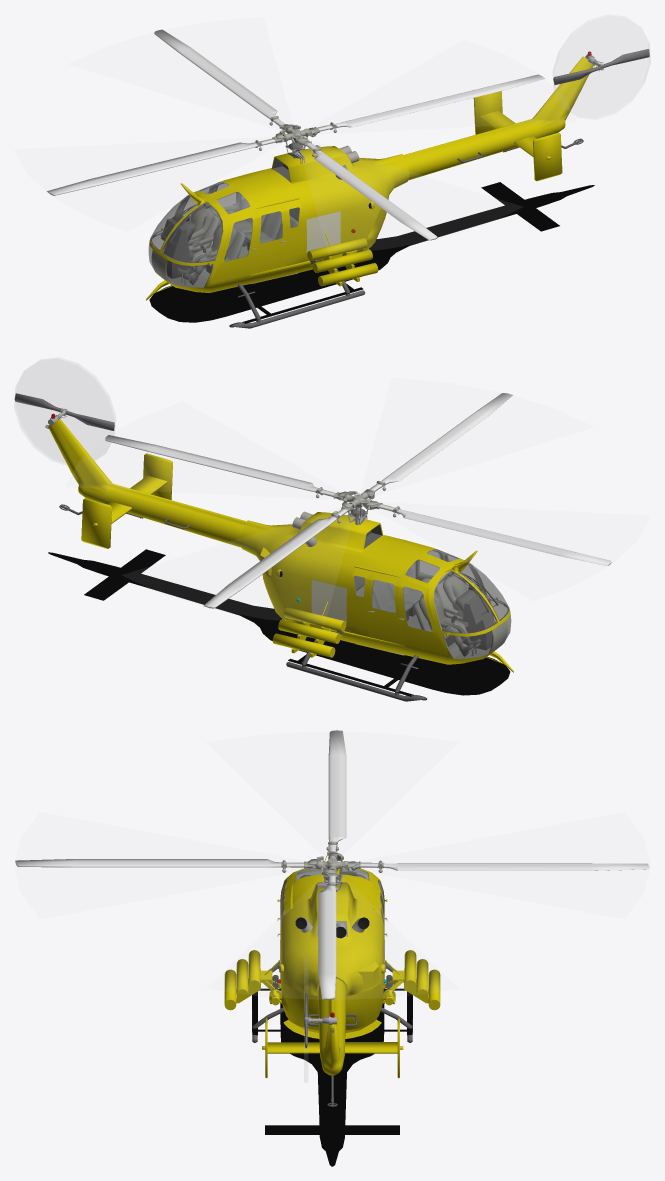
3 views of the same model, one above another, from view 1: azimuth 30°, elevation 25°; view 2: azimuth 150°, elevation 25°; view 3: azimuth 270°, elevation 25° (orthographic). The views are drawn at different scales.
Visible parts, largest first — view 1: fuselage, shadow_fuselage, rotor_disc_T, tail, windshield_L, hot, glass_fixed, door_back_L, tailstab_L, door_front_L, tailstab_R, emblem (+6 smaller); view 2: fuselage, shadow_fuselage, rotor_disc_T, tail, windshield_R, hot, glass_fixed, tailstab_R, door_back_R, door_front_R, tailstab_L, emblem (+6 smaller); view 3: fuselage, shadow_fuselage, hot, tail, reardoor_R, reardoor_L, tailstab_R, tailstab_L.
Part boxes in pixels (box(x1,y1,x2,y2)): fuselage: box(149, 146, 409, 292); shadow_fuselage: box(149, 182, 594, 327); rotor_disc_T: box(553, 15, 650, 119); tail: box(403, 56, 594, 180); windshield_L: box(162, 202, 222, 262); hot: box(233, 204, 378, 286); glass_fixed: box(148, 182, 299, 287); door_back_L: box(249, 203, 286, 274); tailstab_L: box(514, 132, 562, 181); door_front_L: box(211, 210, 257, 283); tailstab_R: box(473, 91, 515, 134); emblem: box(251, 211, 340, 283); fuselage: box(240, 512, 510, 664); shadow_fuselage: box(48, 549, 510, 700); rotor_disc_T: box(14, 358, 115, 464); tail: box(48, 419, 246, 547); windshield_R: box(434, 570, 497, 633); hot: box(272, 572, 422, 657); glass_fixed: box(354, 549, 511, 658); tailstab_R: box(81, 498, 131, 548); door_back_R: box(367, 571, 406, 645); door_front_R: box(398, 578, 446, 654); tailstab_L: box(130, 453, 172, 499); emblem: box(311, 579, 404, 655); fuselage: box(280, 868, 384, 1032); shadow_fuselage: box(252, 973, 412, 1166); hot: box(224, 950, 440, 1010); tail: box(318, 978, 346, 1075); reardoor_R: box(345, 983, 383, 1030); reardoor_L: box(281, 983, 319, 1030); tailstab_R: box(345, 1018, 403, 1078); tailstab_L: box(262, 1018, 319, 1078).
Size of the model in its own units: 11.78 by 9.85 by 3.9.
